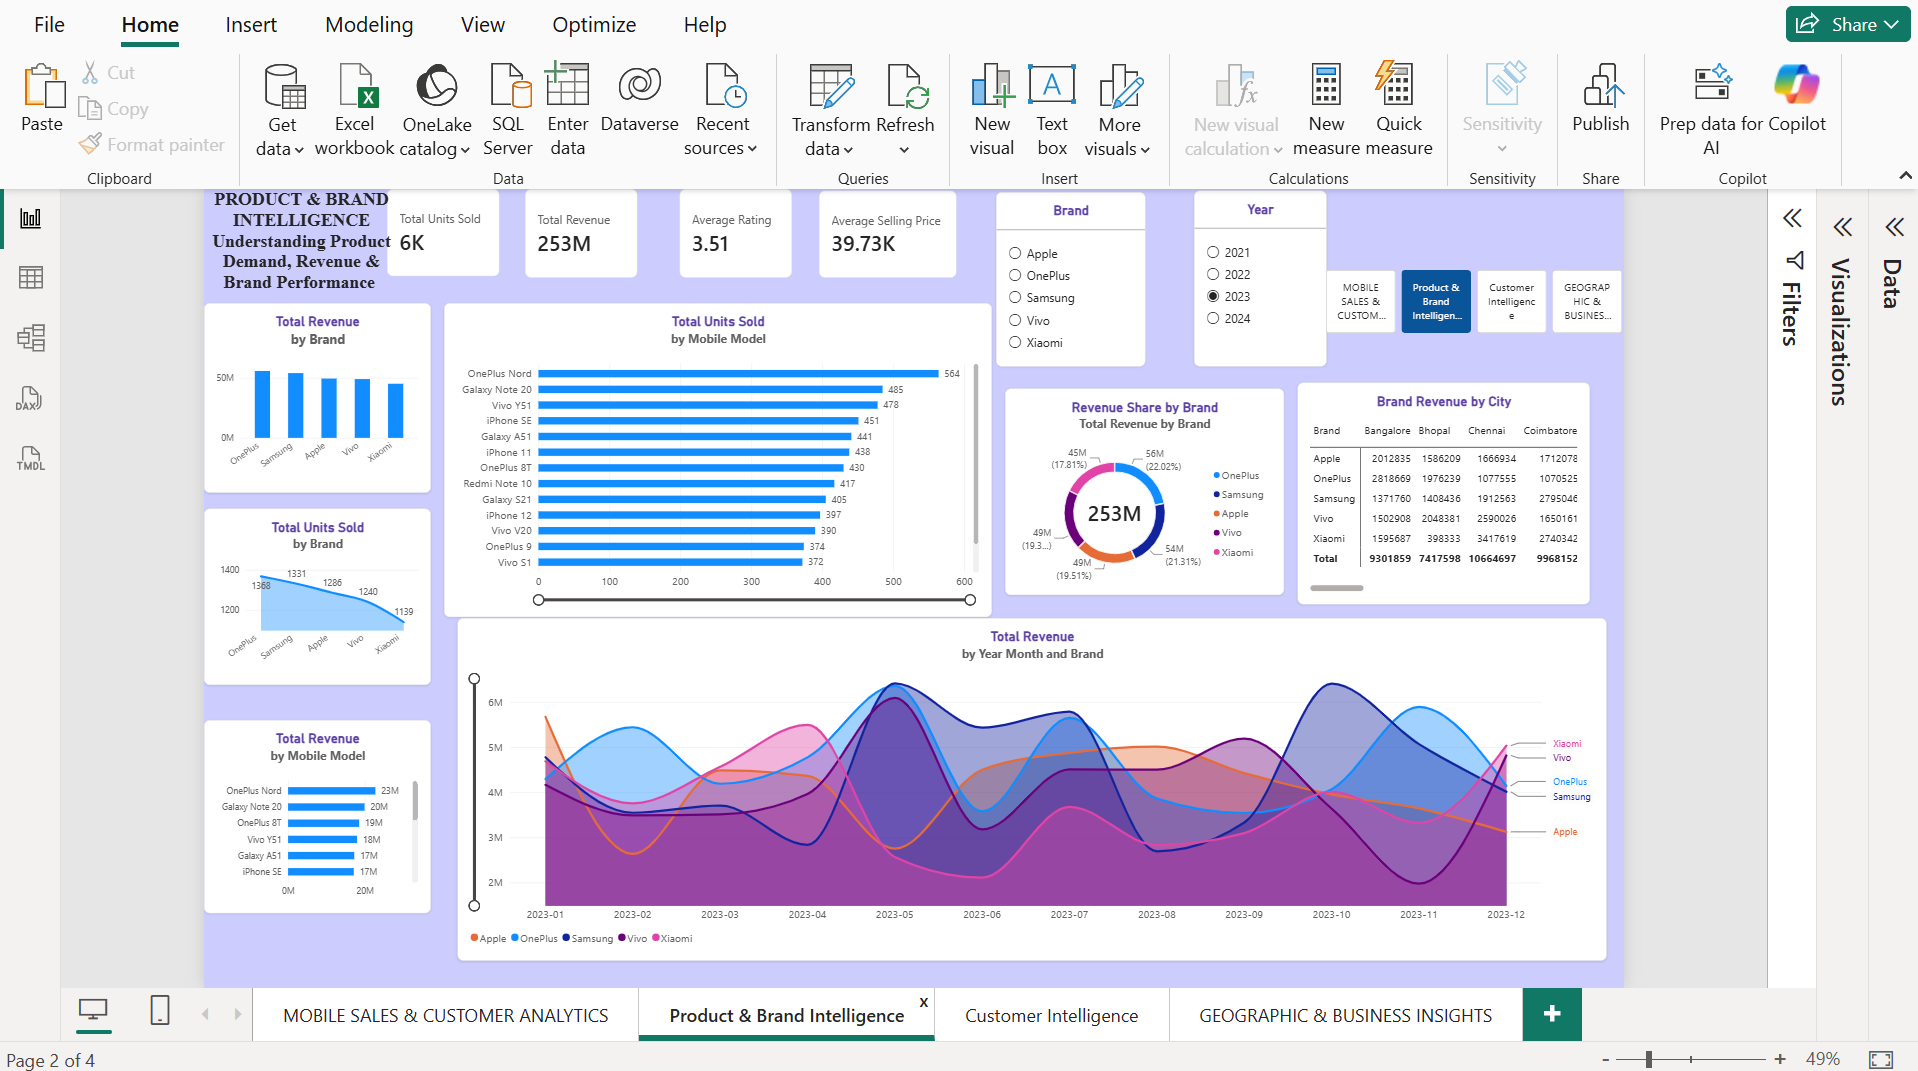

This screenshot's page, from the dashboard's own definition file:
{"tool":"powerbi","page":{"name":"Product & Brand Intelligence","canvas":[1920,1080],"ordinal":1},"visuals":[{"type":"cardVisual","fields":{"Data":["Sheet1.Total Units Sold"]},"box":[247.6,0,152.2,118.1],"z":0},{"type":"cardVisual","fields":{"Data":["Sheet1.Average Rating"]},"box":[642.8,0,152.2,120.4],"z":1000},{"type":"cardVisual","fields":{"Data":["Sheet1.Average Selling Price"]},"box":[831.3,2.3,186.2,118.1],"z":2000},{"type":"cardVisual","fields":{"Data":["Sheet1.Total Revenue"]},"box":[433.8,0,152.2,120.4],"z":3000},{"type":"lineChart","fields":{"Category":["Sheet1.Brand"],"Y":["Sheet1.Total Units Sold"]},"box":[0,431.5,306.6,238.5],"z":4000},{"type":"clusteredColumnChart","fields":{"Category":["Sheet1.Brand"],"Y":["Sheet1.Total Revenue"]},"box":[0,154.4,306.6,256.7],"z":5000},{"type":"clusteredBarChart","fields":{"Category":["Sheet1.Mobile Model"],"Y":["Sheet1.Total Revenue"]},"box":[0,717.7,306.6,261.2],"z":6000},{"type":"clusteredBarChart","fields":{"Category":["Sheet1.Mobile Model"],"Y":["Sheet1.Total Units Sold"]},"box":[324.8,154.4,740.4,424.7],"z":7000},{"type":"lineChart","fields":{"Category":["DateTable.Year Month"],"Series":["Sheet1.Brand"],"Y":["Sheet1.Total Revenue"]},"box":[343,579.2,1553.6,463.3],"z":8000},{"type":"pivotTable","title":"Brand Revenue by City","fields":{"Columns":["Sheet1.City"],"Rows":["Sheet1.Brand"],"Values":["Sheet1.Total Revenue"]},"box":[1478.6,261.2,395.2,299.8],"z":9000},{"type":"donutChart","title":"Revenue Share by Brand","fields":{"Category":["Sheet1.Brand"],"Y":["Sheet1.Total Revenue"]},"box":[1083.4,270.3,377,279.4],"z":10000},{"type":"listSlicer","fields":{"Values":["Sheet1.Brand"]},"box":[1069.8,4.5,202.1,236.2],"z":11000},{"type":"listSlicer","fields":{"Values":["DateTable.Year"]},"box":[1337.8,2.3,179,238],"z":12000},{"type":"textbox","box":[2,0,259.5,237.2],"z":13000},{"type":"pageNavigator","box":[1516.6,109.5,403.5,85.2],"z":13001}]}

Visuals, with their boxes on the page's 1920x1080 design canvas (x1, y1, x2, y2). These are canvas units, not pixel positions in the 1918x1071 screenshot, which may show the page scaled, cropped or inside an application window:
cardVisual - Sheet1.Total Units Sold: [248, 0, 400, 118]
cardVisual - Sheet1.Average Rating: [643, 0, 795, 120]
cardVisual - Sheet1.Average Selling Price: [831, 2, 1018, 120]
cardVisual - Sheet1.Total Revenue: [434, 0, 586, 120]
lineChart - Sheet1.Brand x Sheet1.Total Units Sold: [0, 432, 307, 670]
clusteredColumnChart - Sheet1.Brand x Sheet1.Total Revenue: [0, 154, 307, 411]
clusteredBarChart - Sheet1.Mobile Model x Sheet1.Total Revenue: [0, 718, 307, 979]
clusteredBarChart - Sheet1.Mobile Model x Sheet1.Total Units Sold: [325, 154, 1065, 579]
lineChart - DateTable.Year Month x Sheet1.Brand: [343, 579, 1897, 1042]
"Brand Revenue by City" pivotTable: [1479, 261, 1874, 561]
"Revenue Share by Brand" donutChart: [1083, 270, 1460, 550]
listSlicer - Sheet1.Brand: [1070, 4, 1272, 241]
listSlicer - DateTable.Year: [1338, 2, 1517, 240]
textbox: [2, 0, 262, 237]
pageNavigator: [1517, 110, 1920, 195]
